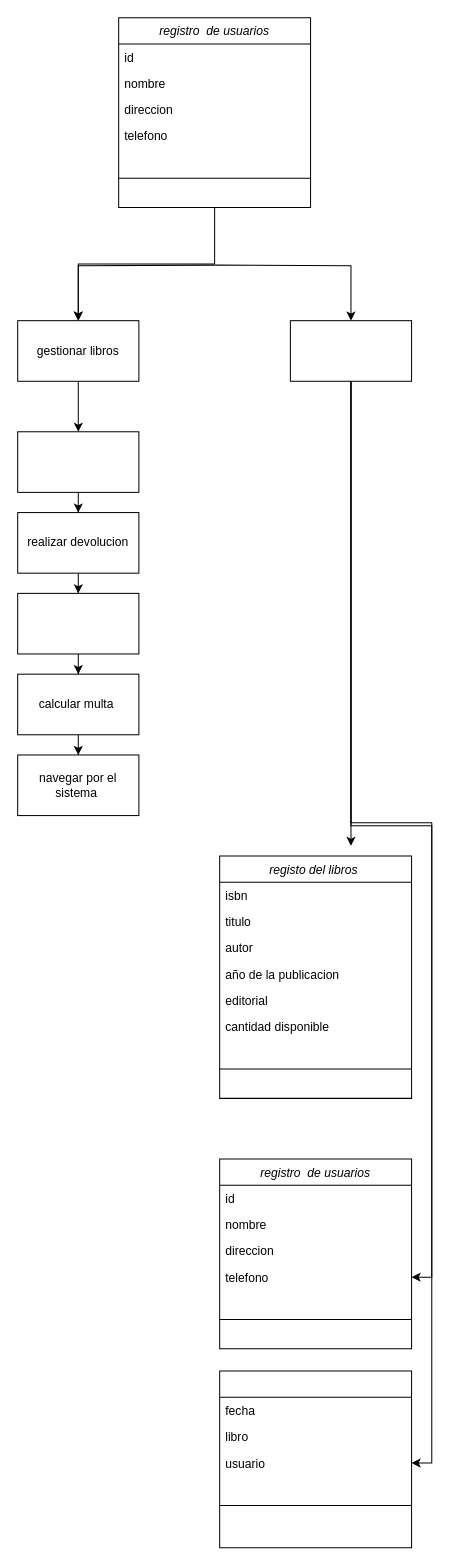
The diagram is 458 pixels wide and 1566 high, and some of its shapes have lost their labels. The shapes that lost their labels are listed below. From the top down, each one's box as (x1, y1, x2, y2) in pixels, then its label:
(289, 320, 412, 381): gestionar usuarios
(17, 431, 139, 492): realizar prestamo
(17, 592, 139, 654): generar recordatorio
(219, 1370, 412, 1548): prestamo
